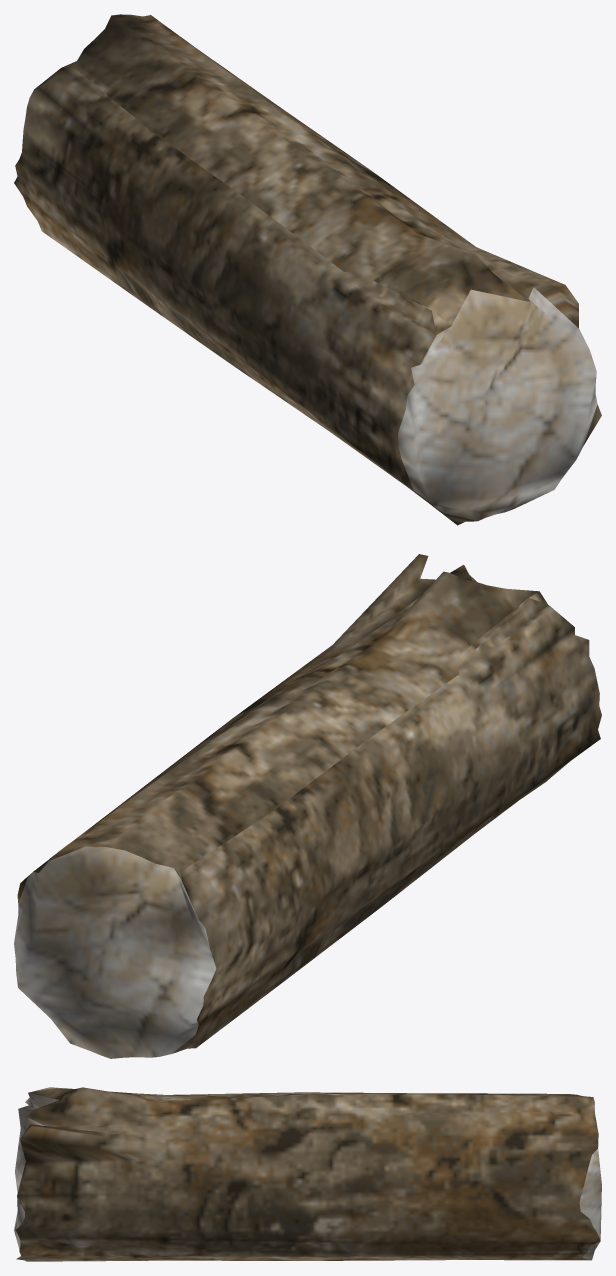
The model's file is fireLog.fbx.
3 renders of one model, top to bottom at view 1: azimuth 30°, elevation 25°; view 2: azimuth 150°, elevation 25°; view 3: azimuth 270°, elevation 25°, orthographic. The views are drawn at different scales.
Visible parts, largest first — view 1: Cylinder; view 2: Cylinder; view 3: Cylinder.
Part boxes in pixels (x1,y1,x2,y2): Cylinder: [14, 14, 601, 525]; Cylinder: [14, 554, 601, 1058]; Cylinder: [14, 1087, 601, 1261].
Size of the model in its own units: 0.579 by 0.6383 by 2.
1 material, 1 textured.
